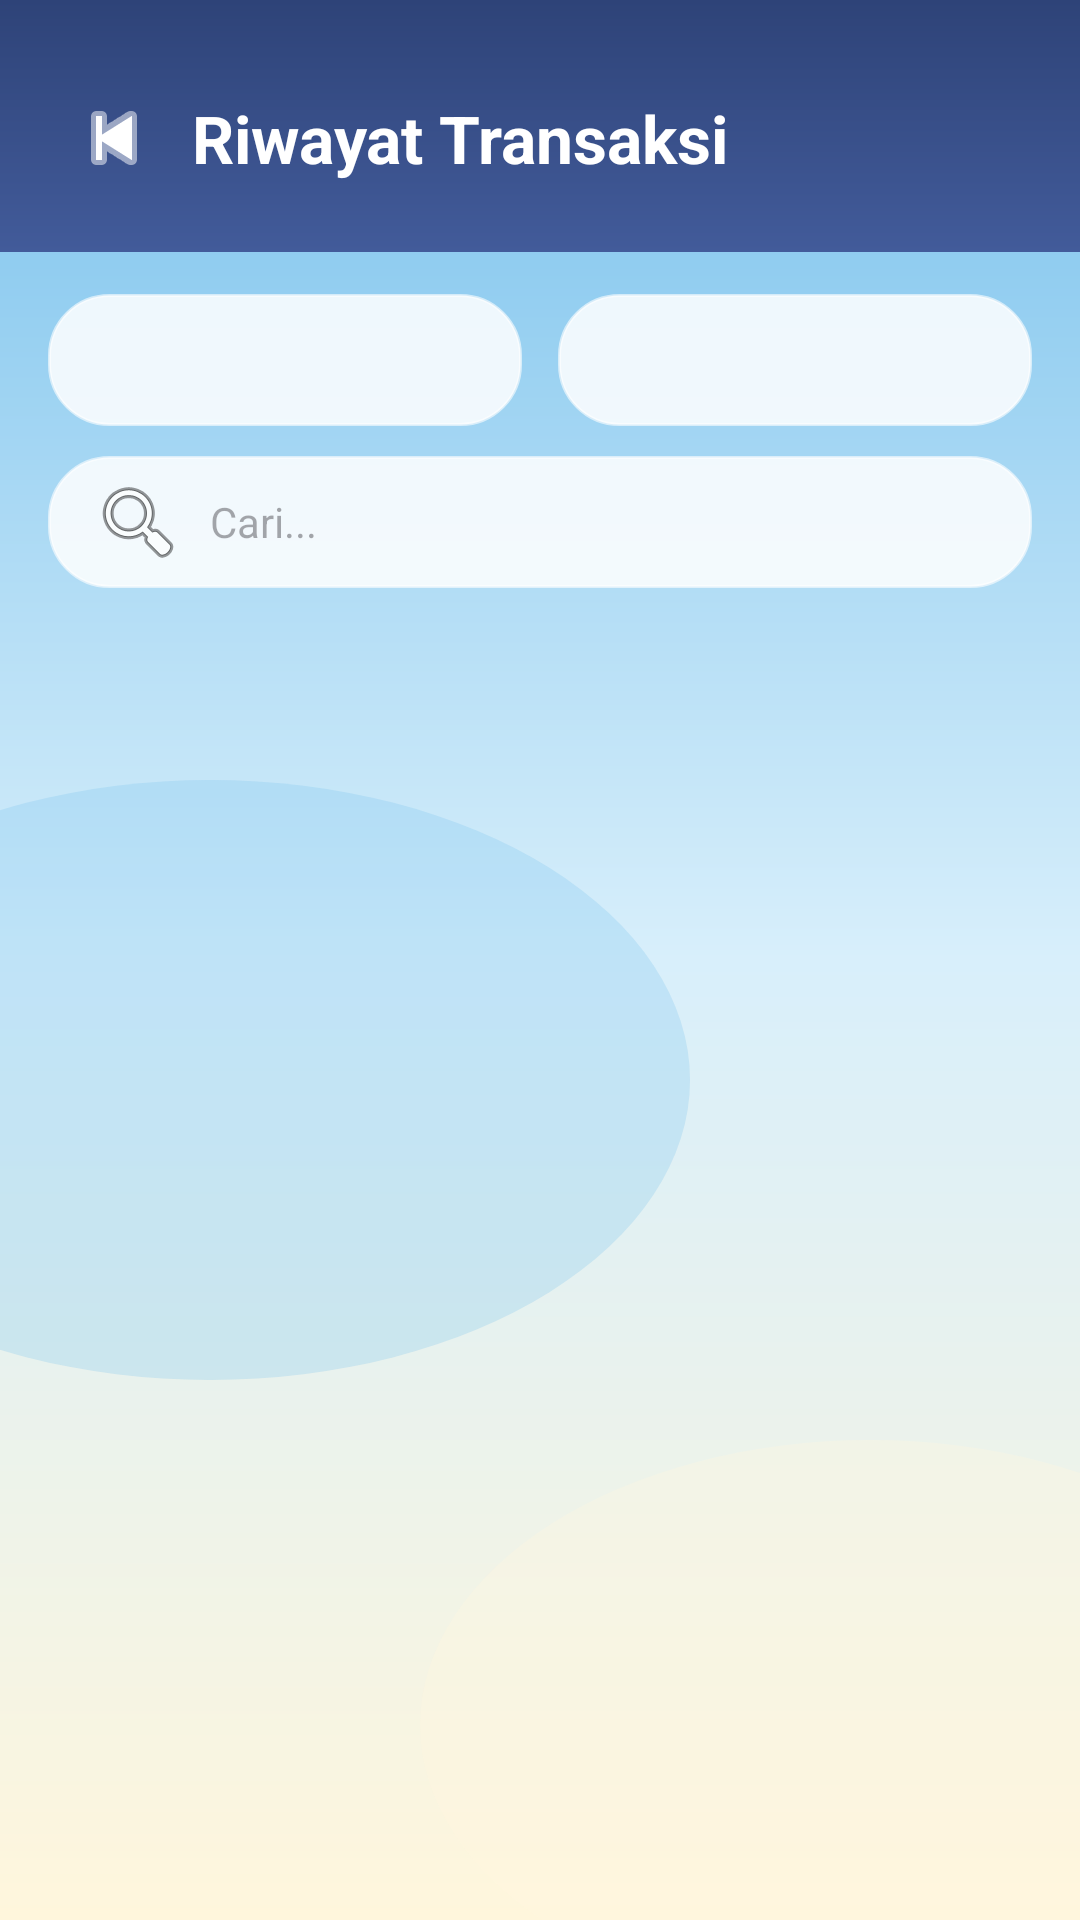

Icon bounding boxes for this 1080px×1920px phone screenshot, format (x1, y1, x2, y2):
Kembali: (91, 111, 137, 165)
